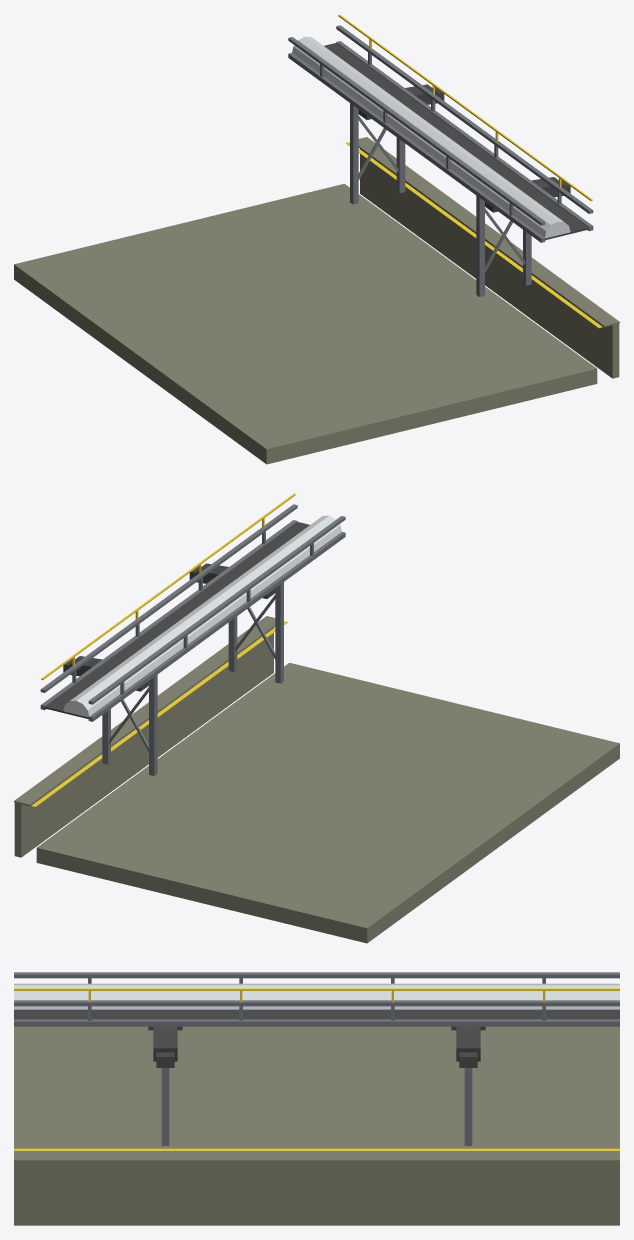
The model's file is platform.fbx.
3 renders of one model, top to bottom at view 1: azimuth 30°, elevation 25°; view 2: azimuth 150°, elevation 25°; view 3: azimuth 270°, elevation 25°, orthographic. The views are drawn at different scales.
Visible parts, largest first — view 1: p464_platform; view 2: p464_platform; view 3: p464_platform.
Part boxes in pixels (box(x1,y1,x2,y2)): p464_platform: box(14, 14, 619, 464); p464_platform: box(14, 493, 619, 943); p464_platform: box(14, 972, 619, 1225).
Bounding box in the file's own units: 13.28 × 6.48 × 16.
